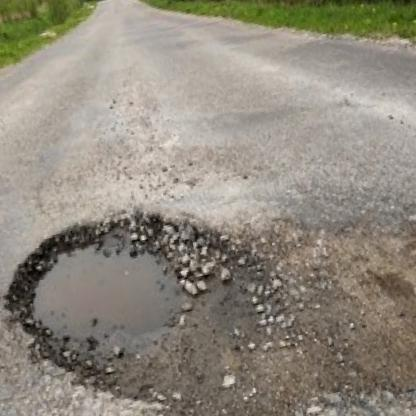pothole: (0, 193, 242, 410), (251, 181, 416, 416)
